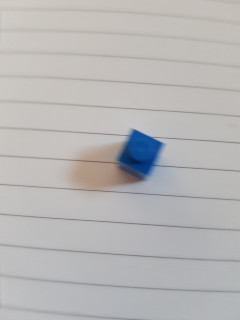1x1 blue: (116, 129, 165, 181)
